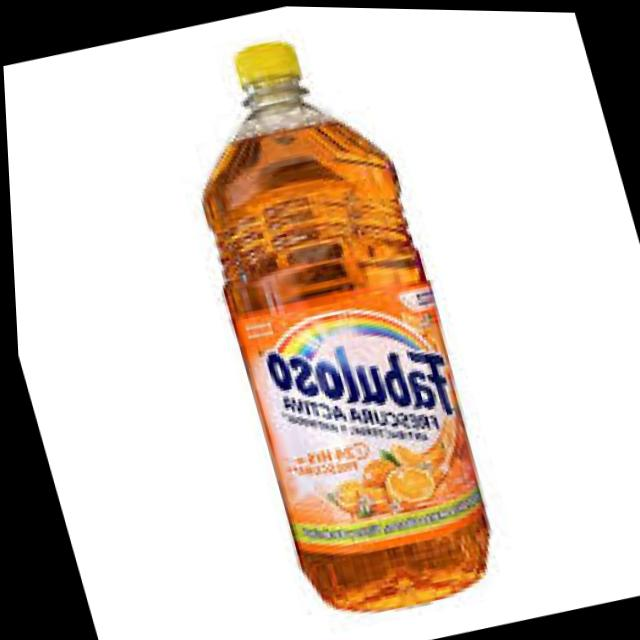Botella: (144, 3, 542, 613)
